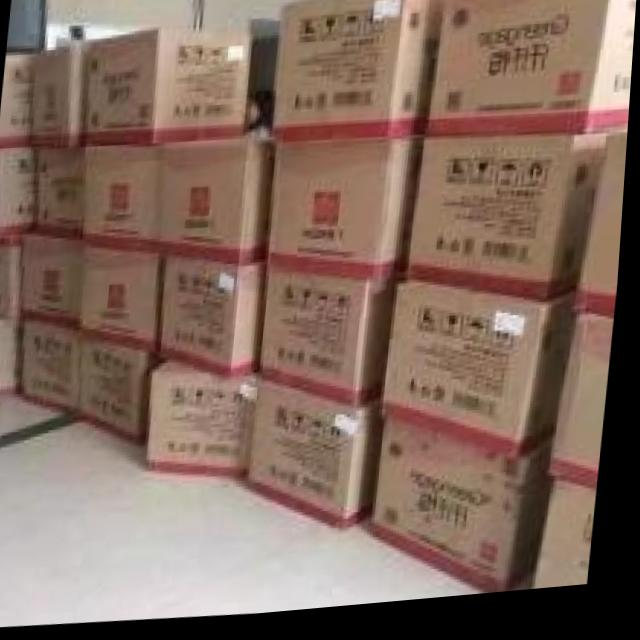box: (406, 142, 612, 312), (385, 288, 574, 470), (372, 422, 551, 602), (427, 0, 638, 143), (271, 0, 445, 142), (268, 142, 424, 286), (249, 386, 386, 537), (85, 27, 251, 145), (264, 270, 393, 412), (159, 146, 276, 268), (162, 259, 268, 384), (152, 363, 261, 480), (553, 323, 619, 502), (573, 141, 630, 330), (85, 146, 166, 253), (86, 247, 165, 355), (81, 334, 156, 446), (541, 492, 604, 600), (27, 232, 88, 331), (33, 39, 87, 148), (26, 322, 83, 419), (39, 147, 86, 238), (0, 147, 40, 234), (0, 52, 35, 148), (0, 235, 28, 316), (0, 316, 27, 395)
